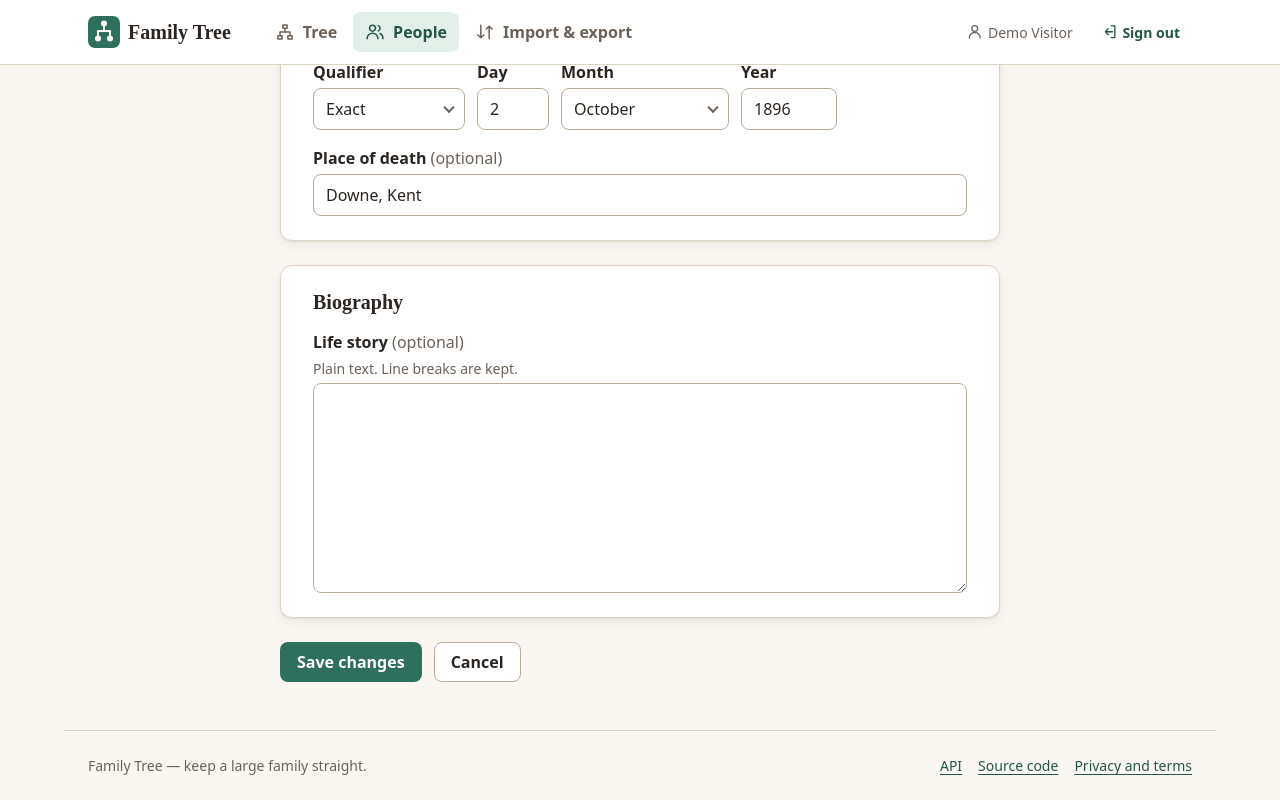
server validation errors appear on the matching fields and in an alert
(page scrolled)
What coordinates should you click on to do the following:
click the button "Save changes"
I would click on:
 (351, 662)
Its box is [280,642,422,682].
(page scrolled)
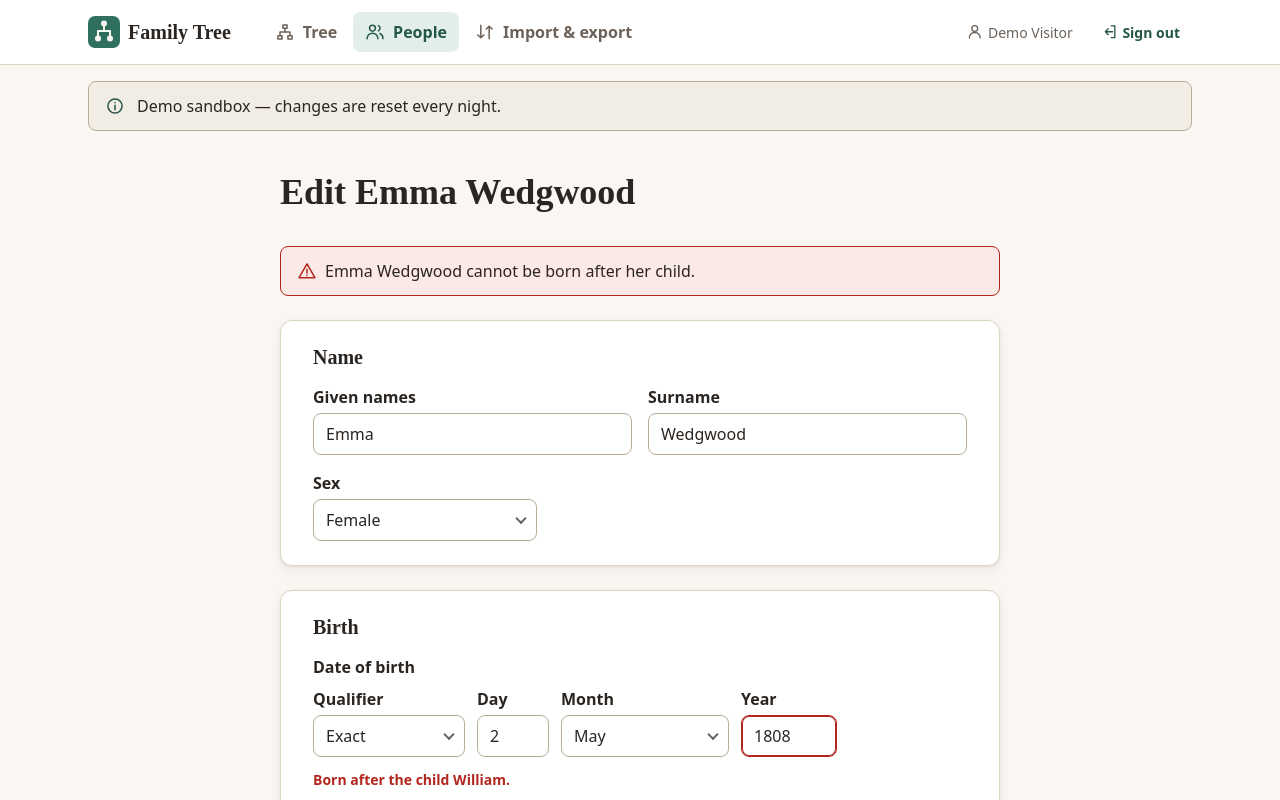
Expected: the message reads "Emma Wedgwood cannot be born after her child.", [325,260,695,282]
